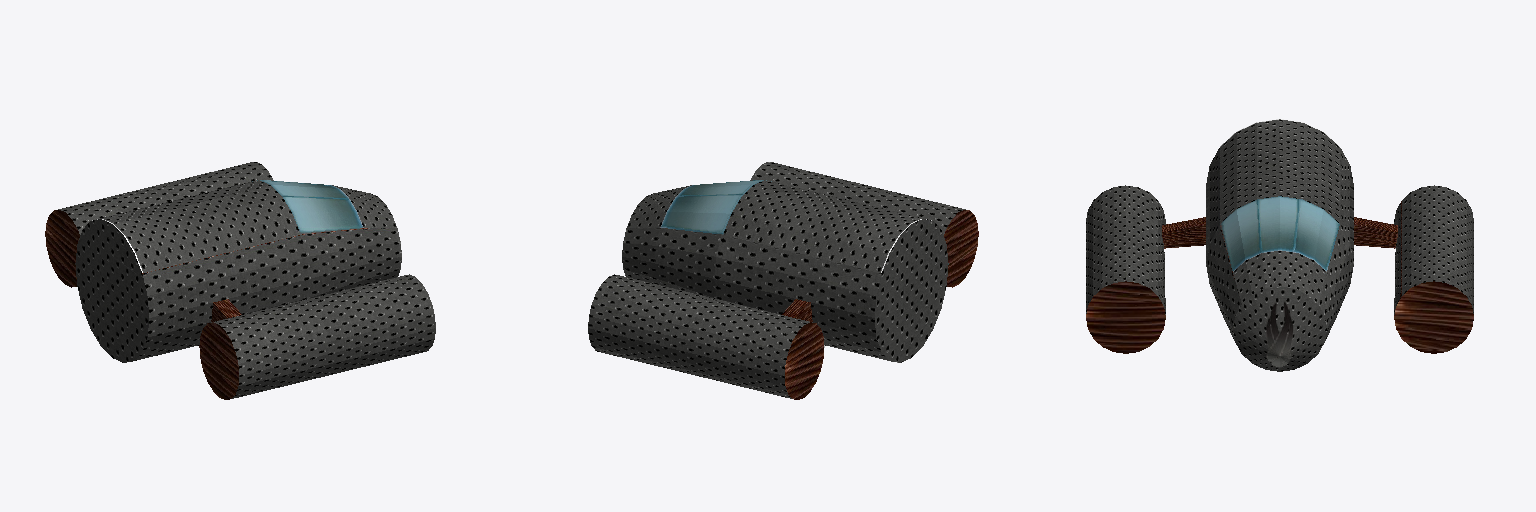
The picture shows the model from 3 angles: view 1: azimuth 30°, elevation 25°; view 2: azimuth 150°, elevation 25°; view 3: azimuth 270°, elevation 25°; orthographic projection.
Visible parts, largest first — view 1: nave; view 2: nave; view 3: nave.
Part boxes in pixels (left/top/right/bottom): nave: left=45, top=162, right=435, bottom=399; nave: left=588, top=162, right=978, bottom=399; nave: left=1086, top=119, right=1473, bottom=371.
Size of the model in its own units: 26.88 by 12 by 31.48.
1 materials, 1 textured.